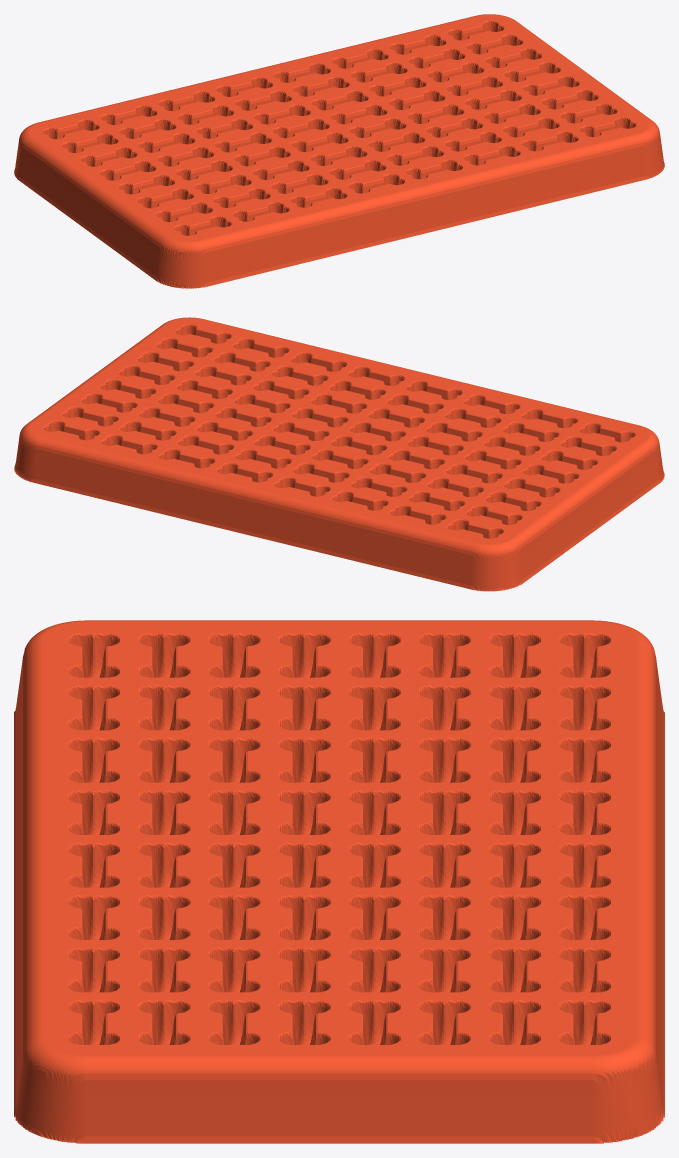
Rendered from mold.glb.
3 views of the same model, one above another, from view 1: azimuth 30°, elevation 25°; view 2: azimuth 150°, elevation 25°; view 3: azimuth 270°, elevation 25° (orthographic). The views are drawn at different scales.
Parts seen in each view (by area): view 1: geometry_0; view 2: geometry_0; view 3: geometry_0.
Part boxes in pixels (bbox=[...]): geometry_0: bbox=[14, 14, 664, 288]; geometry_0: bbox=[14, 317, 664, 591]; geometry_0: bbox=[14, 620, 664, 1143].
Size of the model in its own units: 0.1355 by 0.0105 by 0.0815.
